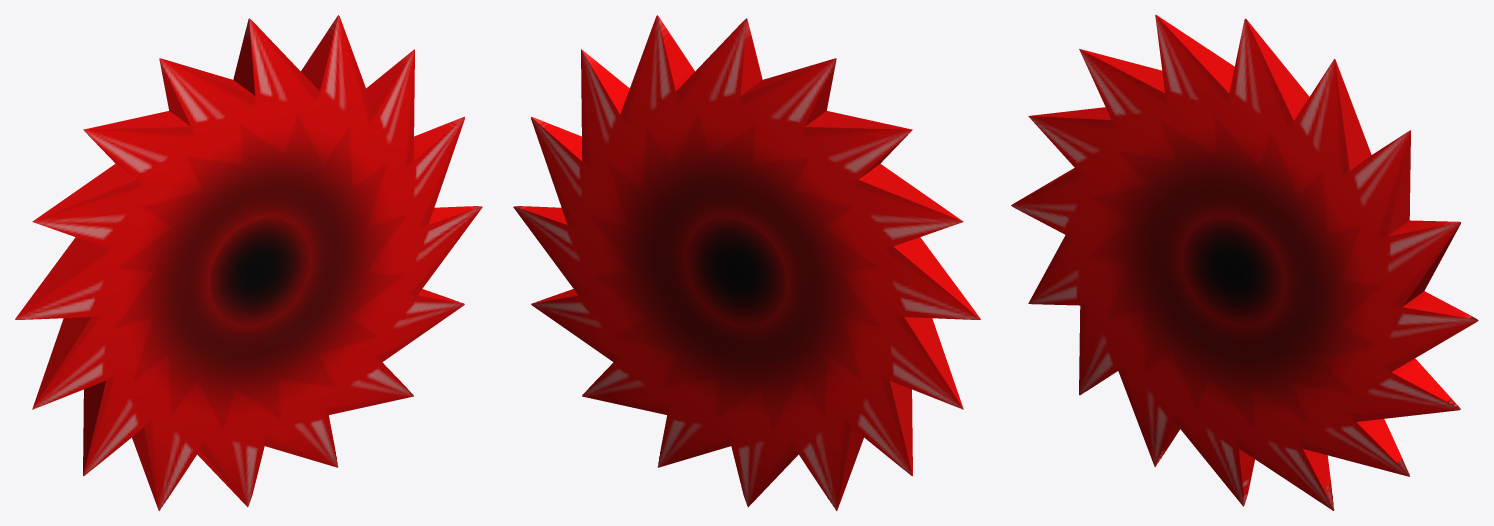
File: saw.FBX
The picture shows the model from 3 angles, left to right: view 1: azimuth 30°, elevation 25°; view 2: azimuth 150°, elevation 25°; view 3: azimuth 330°, elevation 25°; orthographic projection.
Visible parts, largest first — view 1: saw_blade; view 2: saw_blade; view 3: saw_blade.
Part boxes in pixels (x1,y1,x2,y2): saw_blade: (15,15,482,510); saw_blade: (513,15,980,510); saw_blade: (1011,14,1478,510).
Bounding box in the file's own units: 243 × 19.81 × 243.
